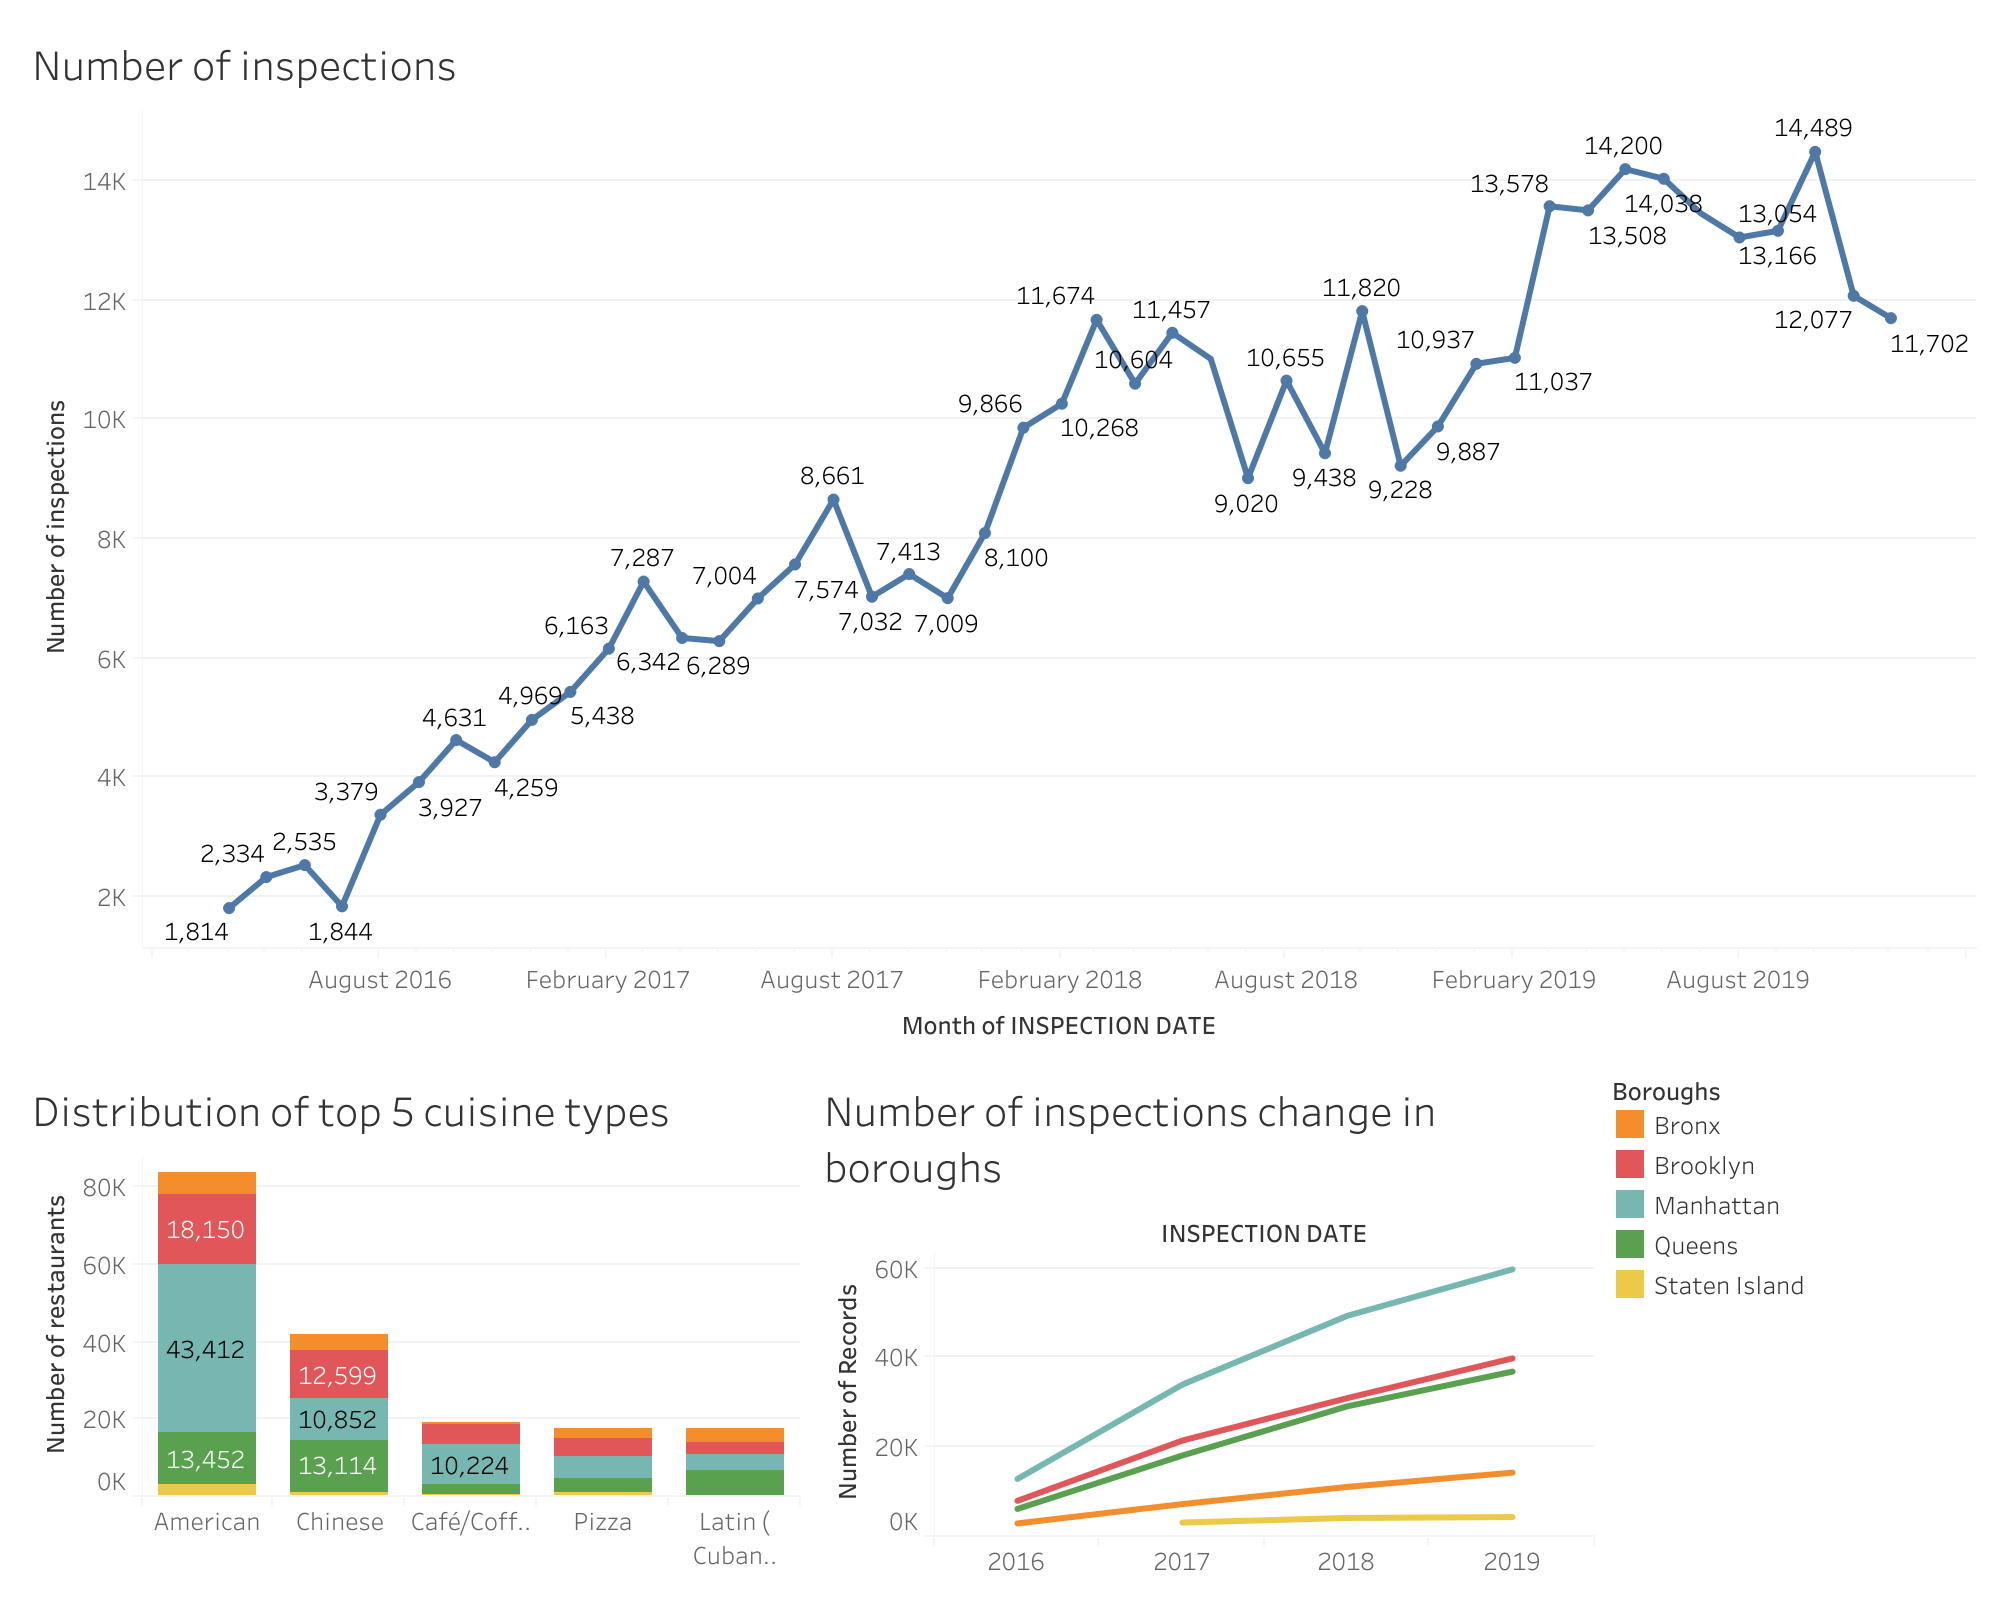

This screenshot's page, from the dashboard's own definition file:
{"tool":"tableau","page":{"name":"Dashboard1","canvas":[1000,800],"ordinal":0},"visuals":[{"type":"worksheet","title":"Number of inspections","mark":"Automatic","rows":["Number of Records"],"cols":["INSPECTION DATE"],"box":[8,8,984,522.7]},{"type":"worksheet","title":"Distribution of top 5 cuisine types in each boroughs","mark":"Automatic","rows":["Number of Records"],"cols":["CUISINE DESCRIPTION","BORO"],"box":[8,530.7,396.5,261.3]},{"type":"worksheet","title":"Number of inspections change in boroughs","mark":"Automatic","rows":["Number of Records"],"cols":["INSPECTION DATE"],"box":[404.5,530.7,396.5,261.3]},{"type":"legend","title":"Number of inspections change in boroughs","param":"[federated.1rqrh0i1q1i4zn12uevsd094t6z5].[none:BORO:nk]","box":[800.9,530.7,191.1,261.3]}]}

Visuals, with their boxes in screenshot pixels (x1, y1, x2, y2), scaled from the page's 1000x800 canvas onto the 1998x1598 screenshot:
"Number of inspections" worksheet: (16,16,1982,1060)
"Distribution of top 5 cuisine types in each boroughs" worksheet: (16,1060,808,1582)
"Number of inspections change in boroughs" worksheet: (808,1060,1600,1582)
"Number of inspections change in boroughs" legend: (1600,1060,1982,1582)
